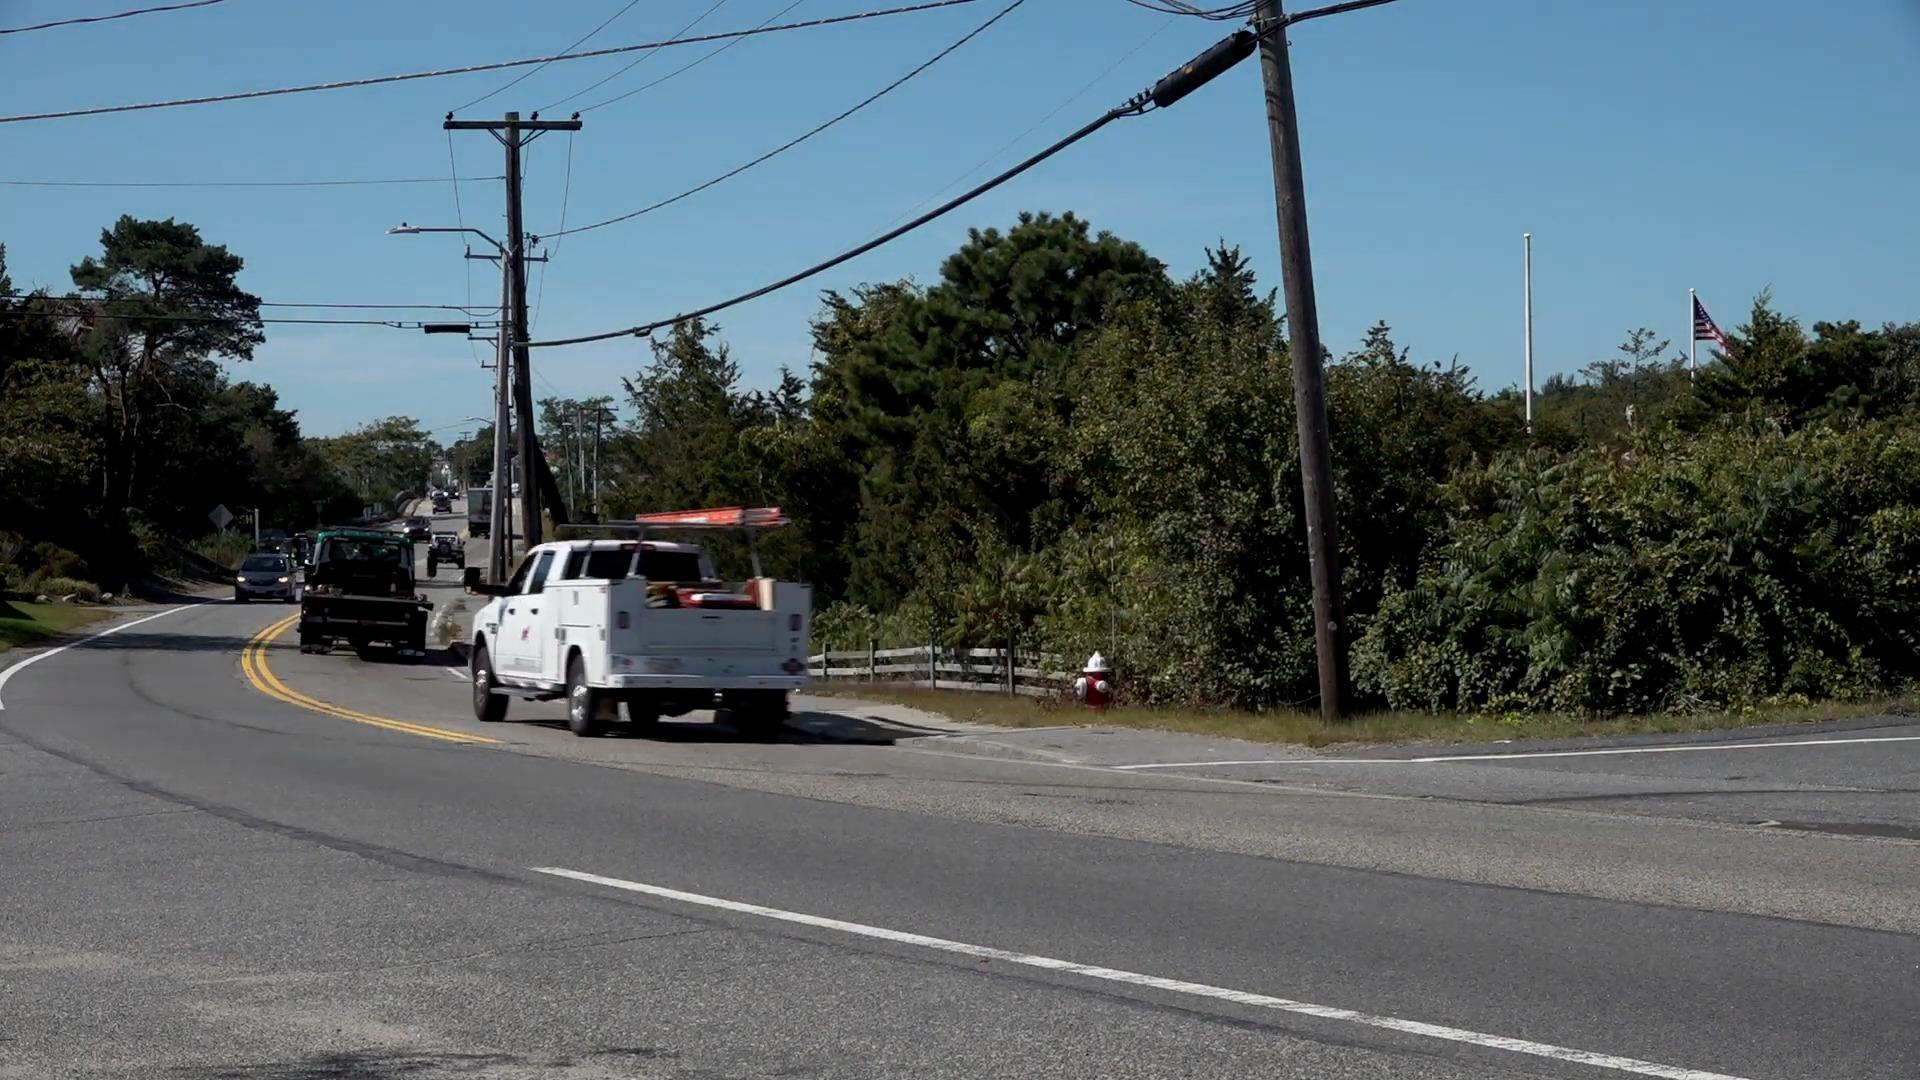pickup: (468, 528, 805, 742)
sedans: (233, 547, 298, 608)
truck: (302, 522, 430, 660)
